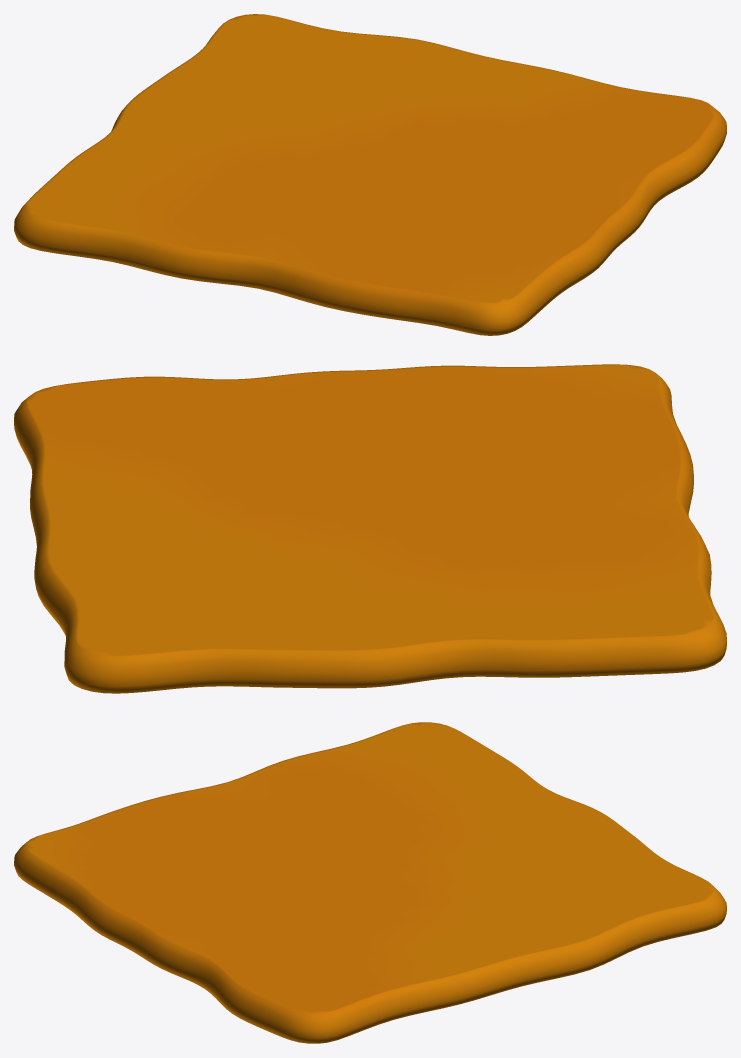
Rendered from testmodelsCube_099.fbx.
3 views of the same model, one above another, from view 1: azimuth 30°, elevation 25°; view 2: azimuth 150°, elevation 25°; view 3: azimuth 270°, elevation 25° (orthographic). The views are drawn at different scales.
Parts seen in each view (by area): view 1: Cube.099; view 2: Cube.099; view 3: Cube.099.
Boxes of the visible parts, <box> form: Cube.099: <box>14,14,726,335</box>; Cube.099: <box>14,364,726,693</box>; Cube.099: <box>14,722,726,1043</box>.
Bounding box in the file's own units: 655 × 26.65 × 655.
